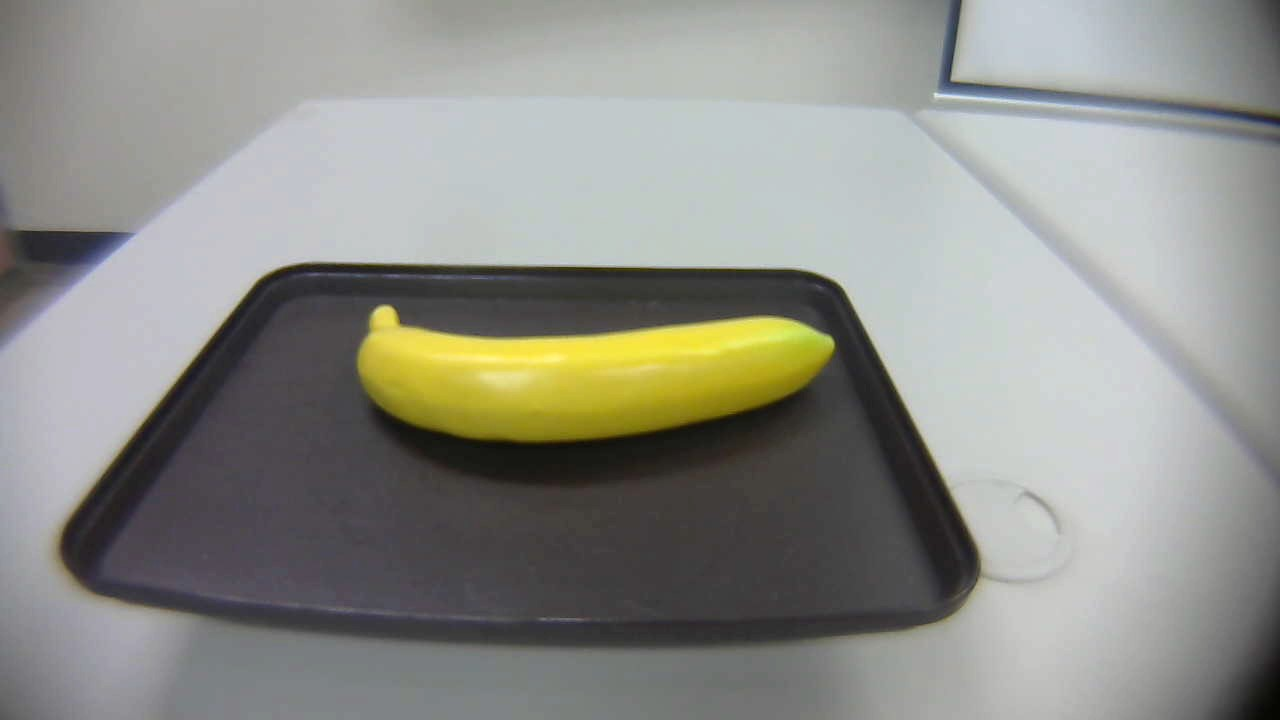banana: (333, 277, 854, 464)
